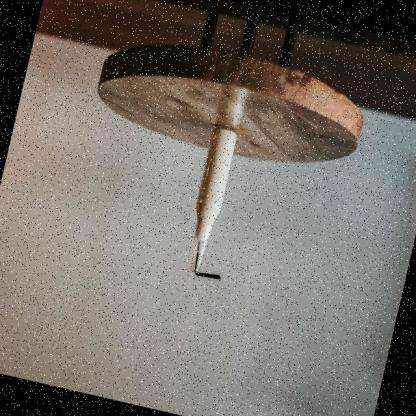Table: (67, 0, 396, 202)
